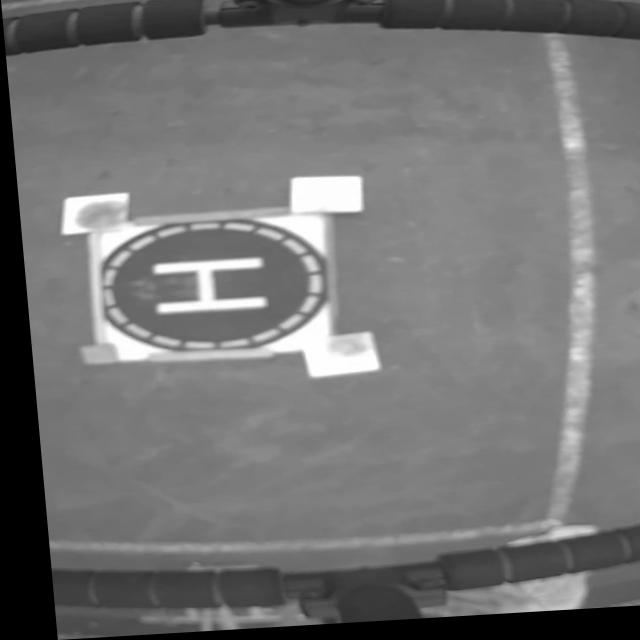Helipad: (143, 260, 262, 316)
